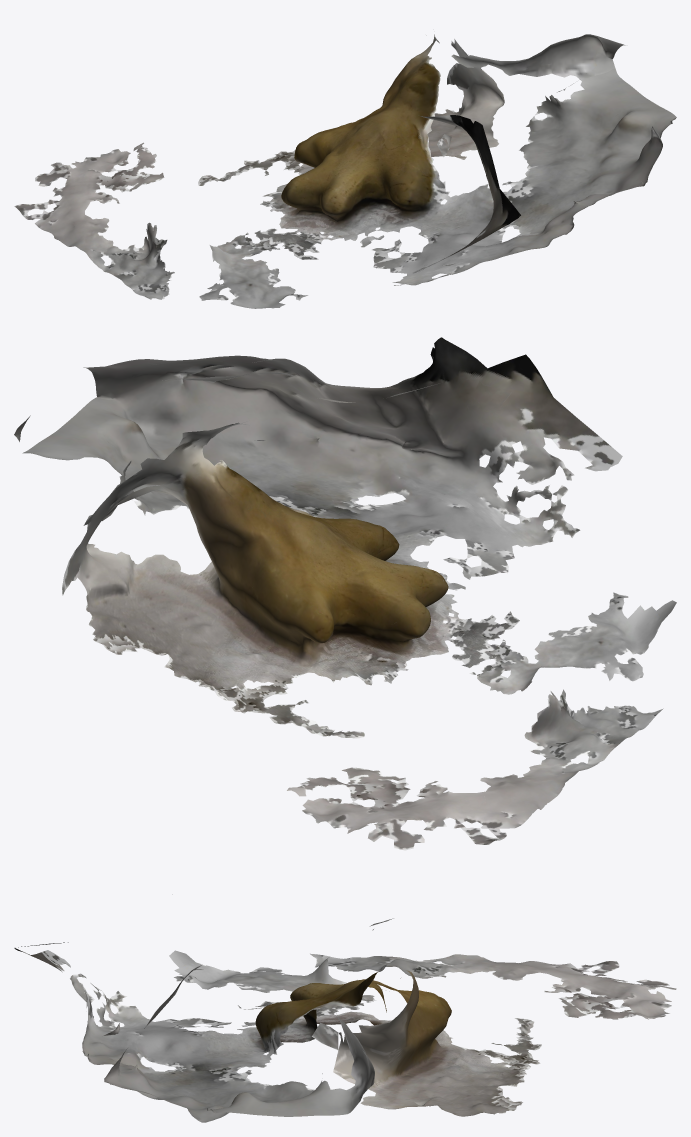
3 views of the same model, one above another, from view 1: azimuth 30°, elevation 25°; view 2: azimuth 150°, elevation 25°; view 3: azimuth 270°, elevation 25° (orthographic). The views are drawn at different scales.
Size of the model in its own units: 1.57 by 0.559 by 1.65.
1 material, 1 textured.
